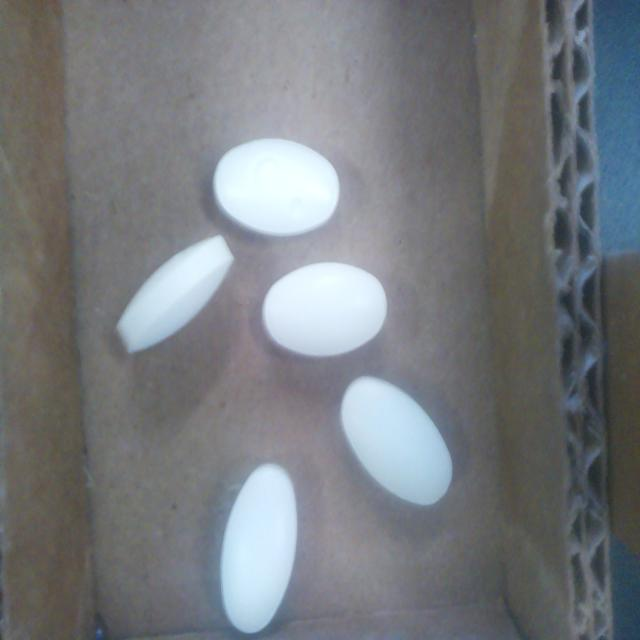pill: (340, 377, 452, 505), (116, 235, 234, 353), (220, 464, 297, 633), (213, 139, 340, 236), (262, 262, 387, 357)
